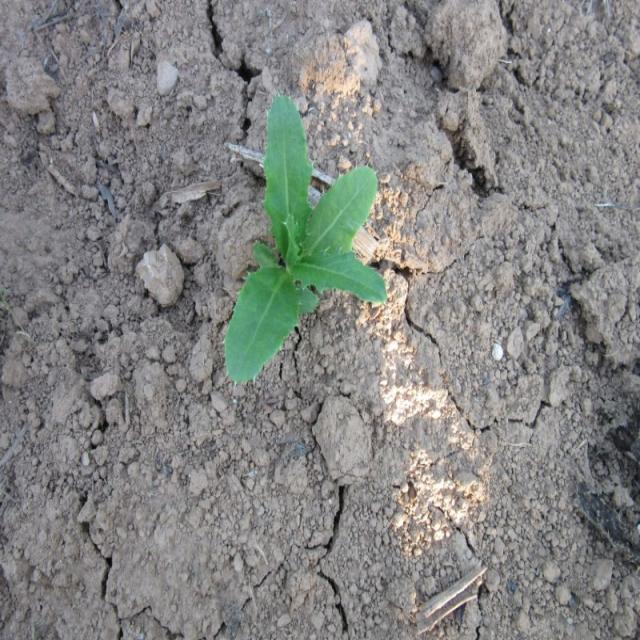cs: (223, 91, 387, 389)
